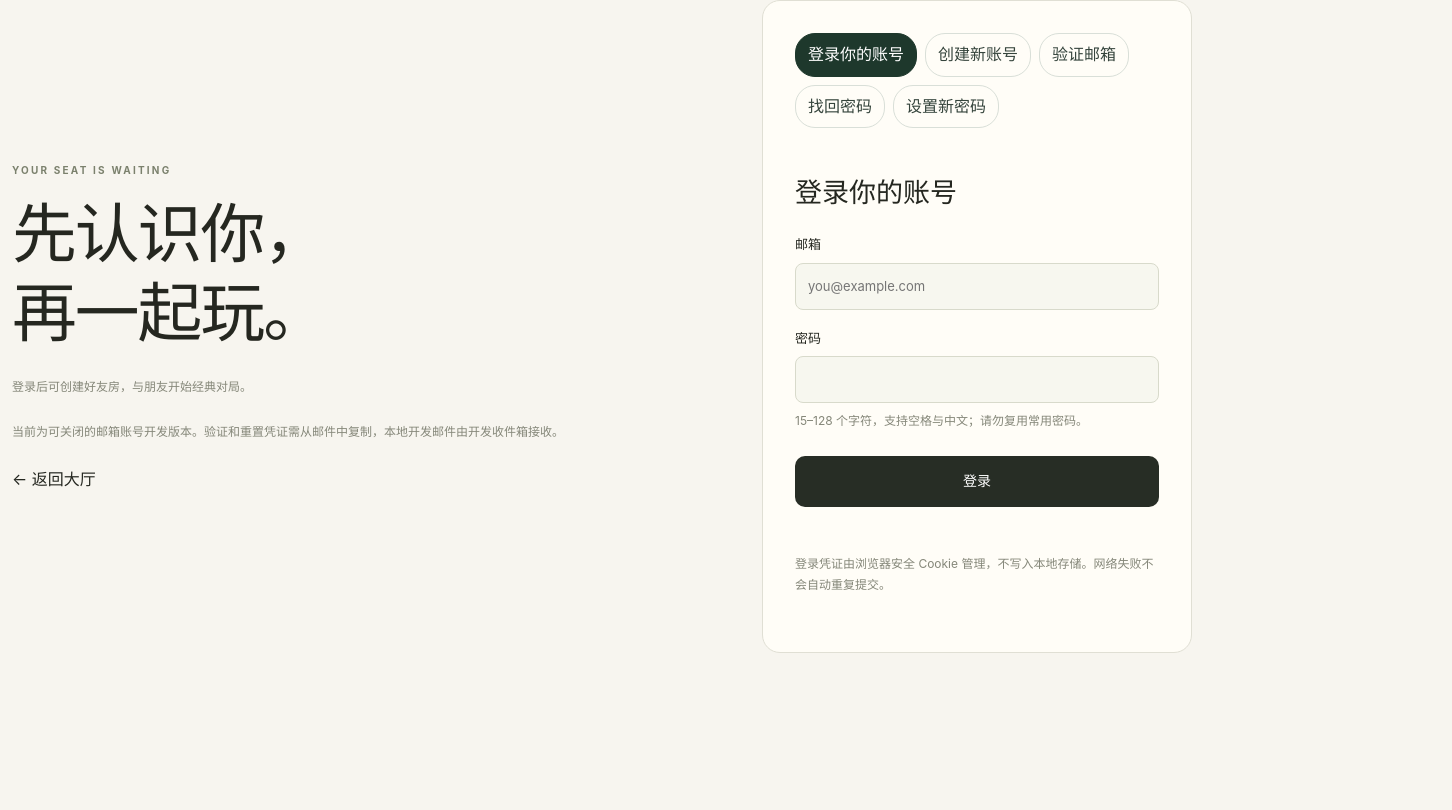
Test: account screens › does not navigate after rejected credentials and clears the submitted password
Type "player@example.com" into the field named "email".
click(977, 286); type("player@example.com")  # box [795,263,1159,310]
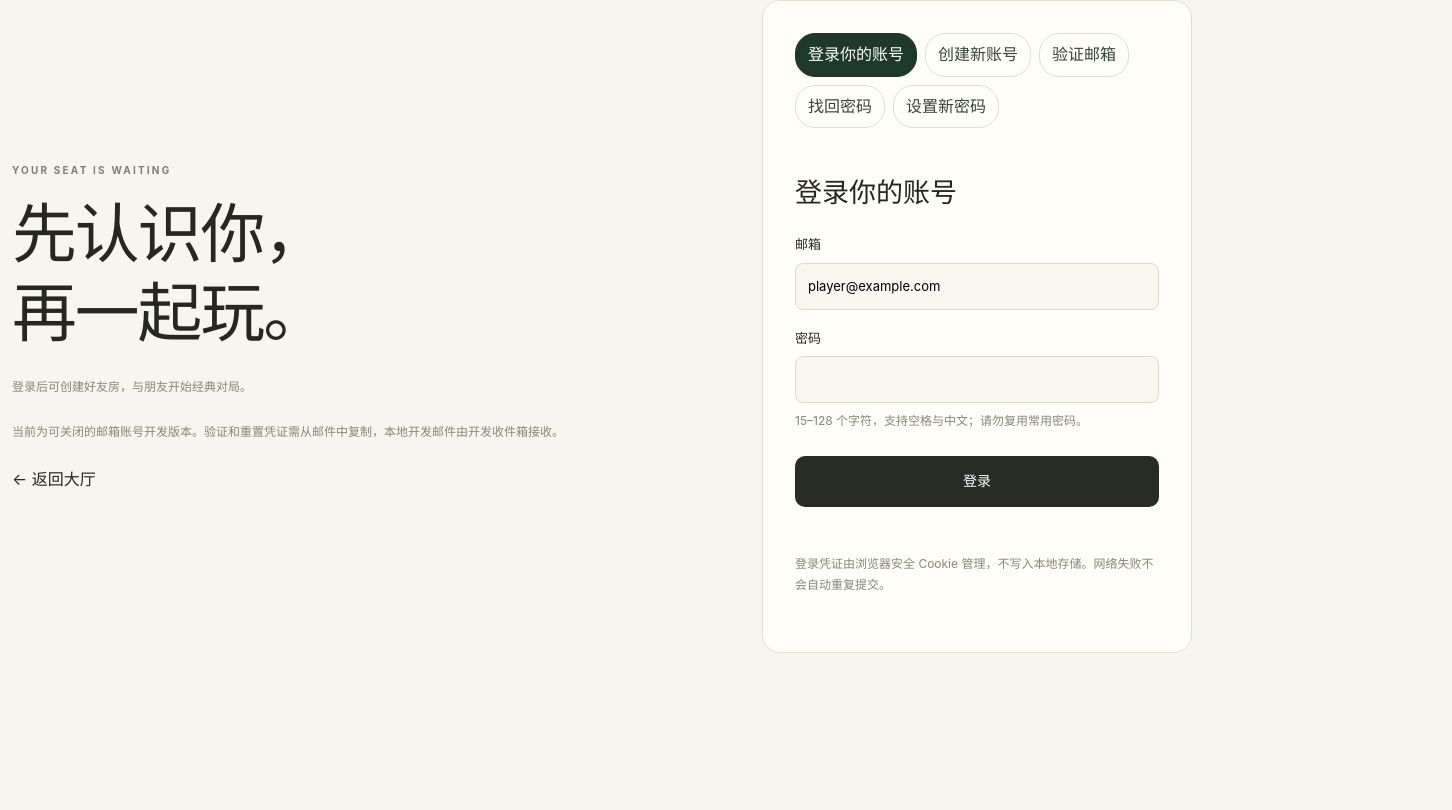
Type "a long test password" into the password field named "password".
click(977, 380); type("a long test password")  # box [795,356,1159,403]
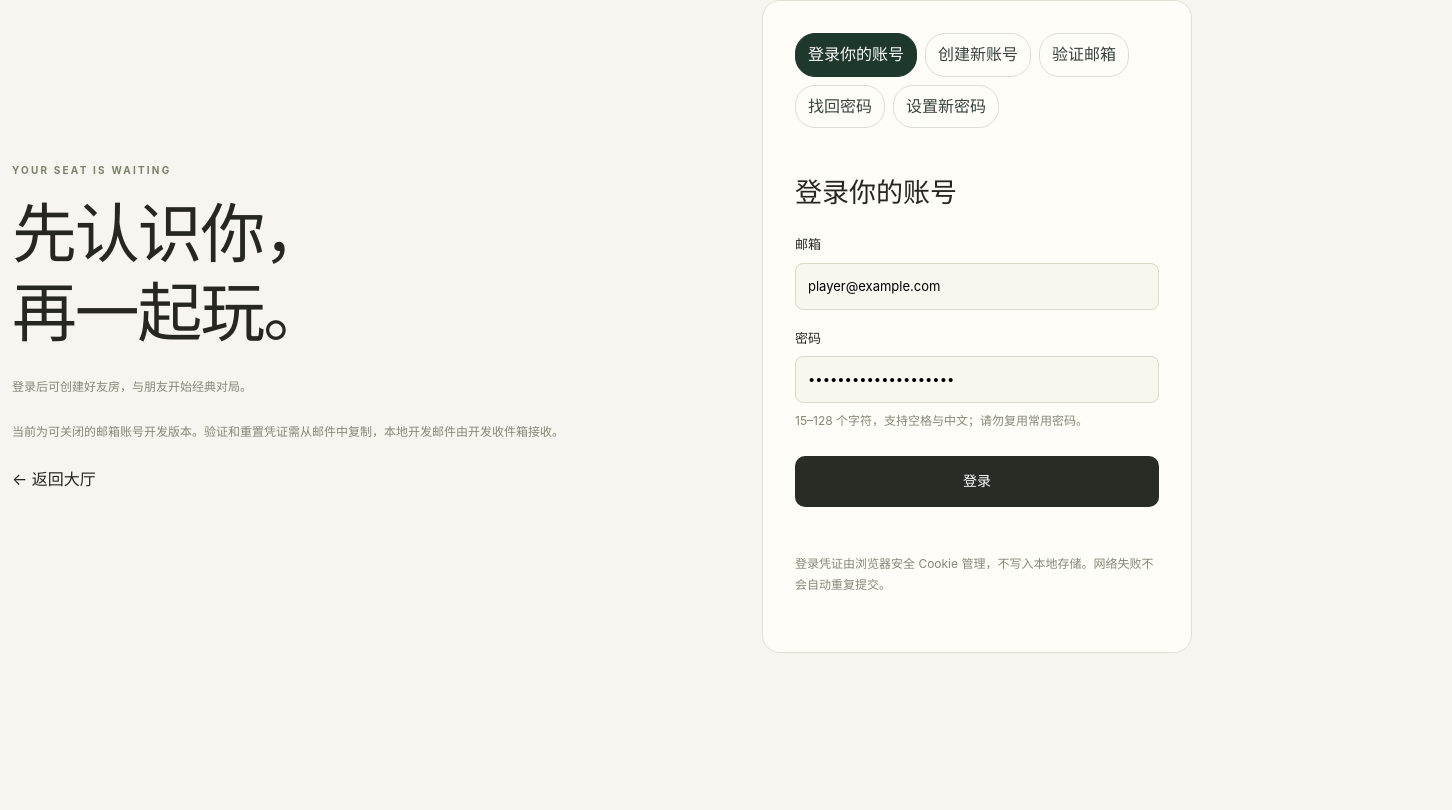
Submit the form, box [795,234,1159,507]
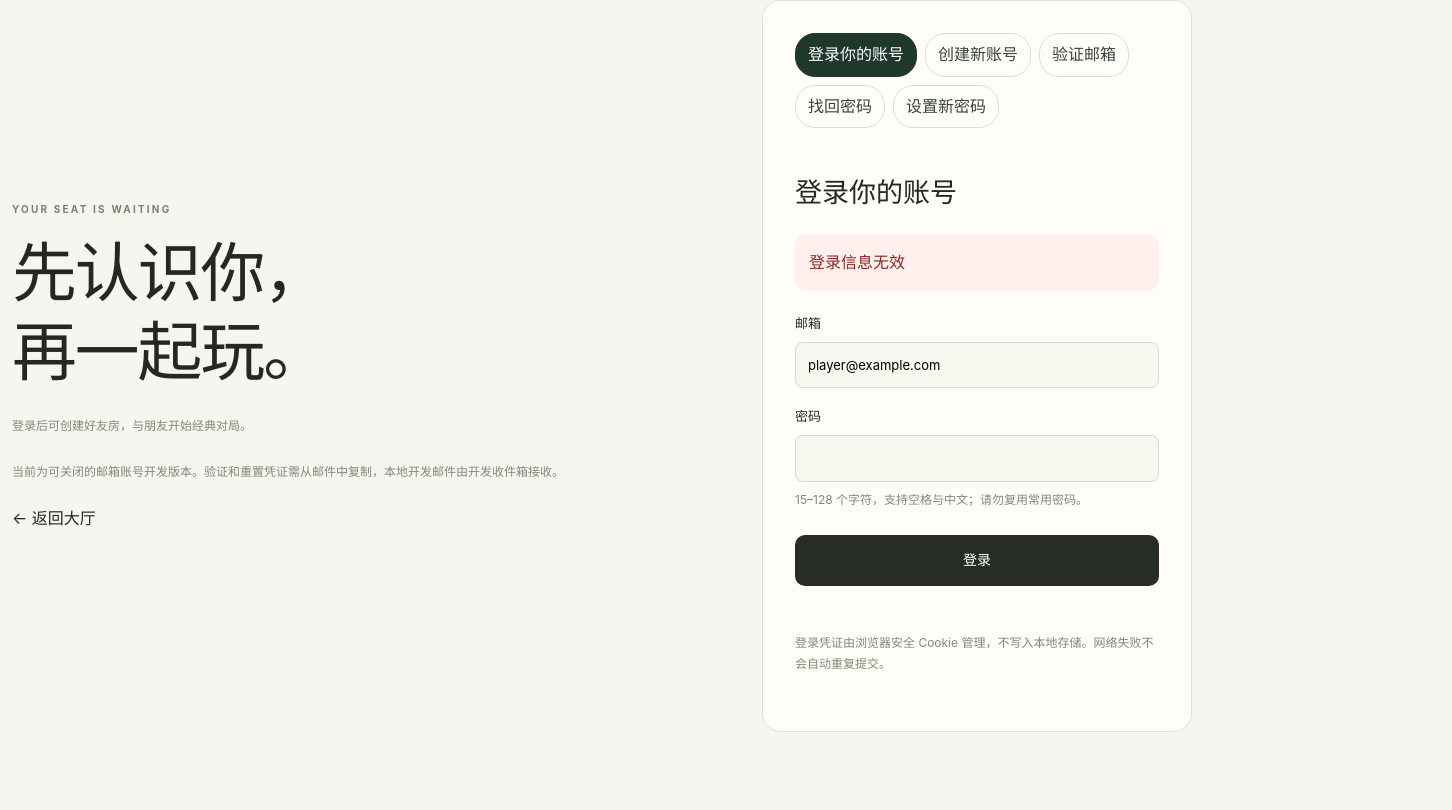
Check: the message "登录信息无效" is shown, box [795,234,1159,291]
Check: the password field named "password" is empty, box [795,435,1159,482]
